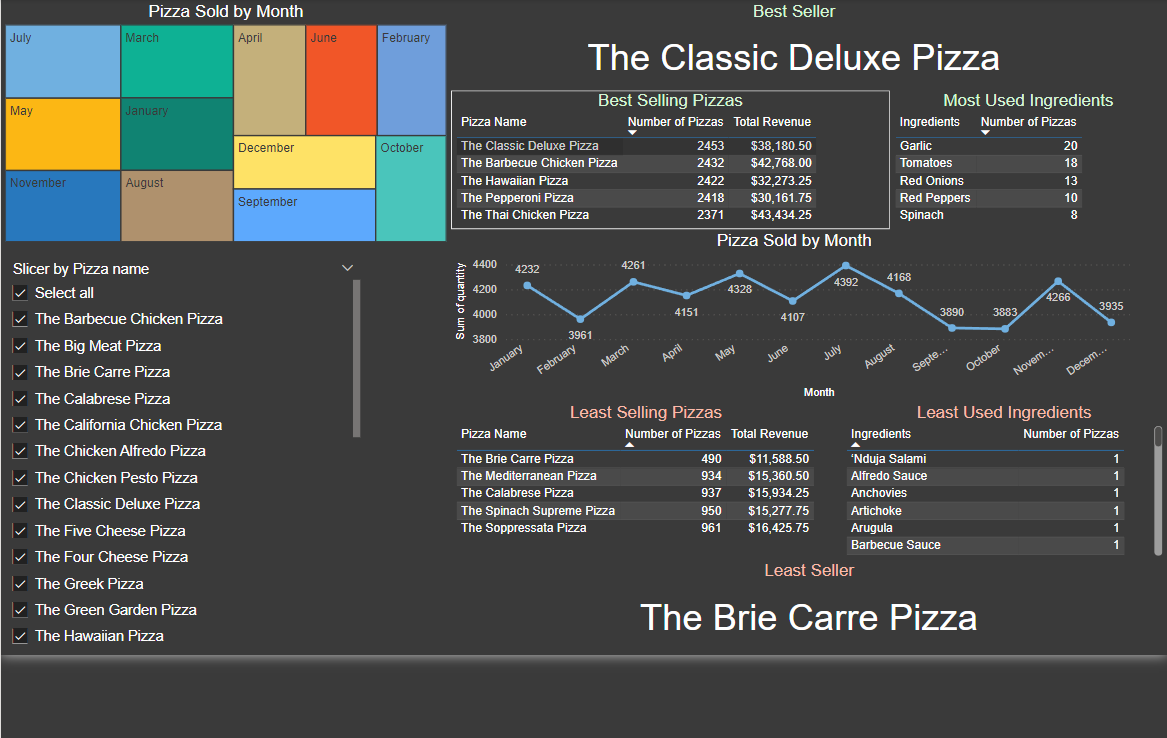

This screenshot's page, from the dashboard's own definition file:
{"tool":"powerbi","page":{"name":"Pizza Sales Insight","canvas":[1280,720],"ordinal":1},"visuals":[{"type":"tableEx","title":"Best Selling Pizzas ","fields":{"Values":["pizza_types.name","Sum(order_details.quantity)","Sum(order_details.Total Price)"]},"box":[494,100.2,481.6,152.3],"z":0},{"type":"tableEx","title":"Least Selling Pizzas","fields":{"Values":["pizza_types.name","Sum(order_details.quantity)","Sum(order_details.Total Price)"]},"box":[494,443.2,428.1,172.9],"z":1000},{"type":"tableEx","title":"Most Used Ingredients","fields":{"Values":["pizza_types (2).ingredients","CountNonNull(pizza_types (2).ingredients)"]},"box":[975.6,100.2,304.6,153.7],"z":2000},{"type":"tableEx","title":"Least Used Ingredients","fields":{"Values":["pizza_types (2).ingredients","CountNonNull(pizza_types (2).ingredients)"]},"box":[922.1,443.2,358.1,172.9],"z":3000},{"type":"treemap","title":"Pizza Sold by Month","fields":{"Values":["Sum(order_details.quantity)"],"Group":["orders.date.Variation.Date Hierarchy.Month","pizza_types.name"]},"box":[0,2.7,494,269],"z":4000},{"type":"card","title":"Best Seller","fields":{"Values":["Min(pizza_types.name)"]},"box":[494,2.7,753.3,97.4],"z":5000},{"type":"card","title":"Least Seller","fields":{"Values":["Min(pizza_types.name)"]},"box":[494,616.1,786.3,100.2],"z":6000},{"type":"slicer","fields":{"Values":["pizza_types.name"]},"box":[0,282.7,399.3,437.7],"z":7000},{"type":"lineChart","title":"Pizza Sold by Month","fields":{"Category":["orders.date.Variation.Date Hierarchy.Month"],"Y":["Sum(order_details.quantity)"]},"box":[494,253.9,753.3,189.4],"z":8000}]}

Visuals, with their boxes on the page's 1280x720 design canvas (x1, y1, x2, y2). These are canvas units, not pixel positions in the 1167x738 screenshot, which may show the page scaled, cropped or inside an application window:
"Best Selling Pizzas " tableEx: x1=494, y1=100, x2=976, y2=252
"Least Selling Pizzas" tableEx: x1=494, y1=443, x2=922, y2=616
"Most Used Ingredients" tableEx: x1=976, y1=100, x2=1280, y2=254
"Least Used Ingredients" tableEx: x1=922, y1=443, x2=1280, y2=616
"Pizza Sold by Month" treemap: x1=0, y1=3, x2=494, y2=272
"Best Seller" card: x1=494, y1=3, x2=1247, y2=100
"Least Seller" card: x1=494, y1=616, x2=1280, y2=716
slicer - pizza_types.name: x1=0, y1=283, x2=399, y2=720
"Pizza Sold by Month" lineChart: x1=494, y1=254, x2=1247, y2=443
